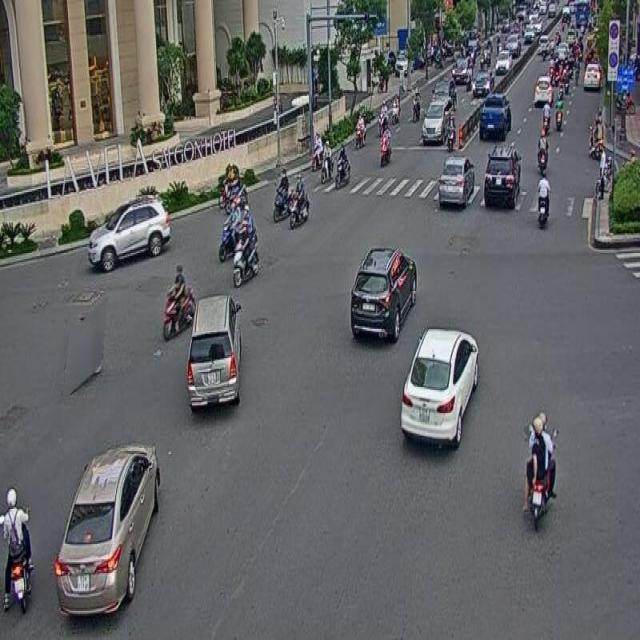car: (54, 445, 160, 620), (400, 326, 478, 445), (87, 195, 170, 271), (186, 292, 240, 406), (350, 248, 416, 338), (483, 143, 520, 206), (438, 156, 474, 204)
motorcycle: (522, 410, 558, 529), (0, 488, 33, 614), (64, 316, 103, 393), (162, 262, 194, 340), (232, 221, 258, 288), (536, 169, 550, 227), (320, 140, 333, 184)
